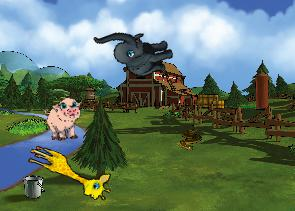elephant: (93, 13, 177, 89)
giraffe: (21, 142, 116, 204)
pig: (43, 97, 85, 142)
